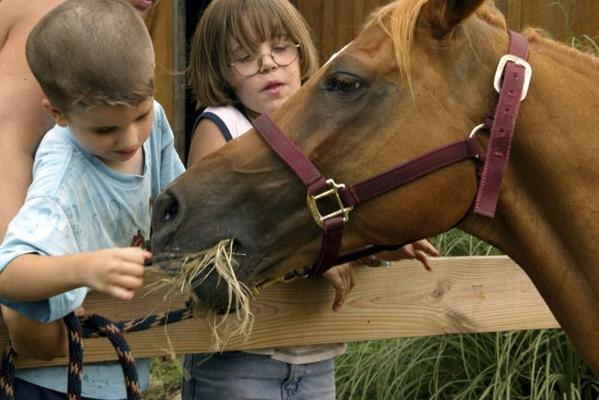person: (3, 1, 191, 400)
